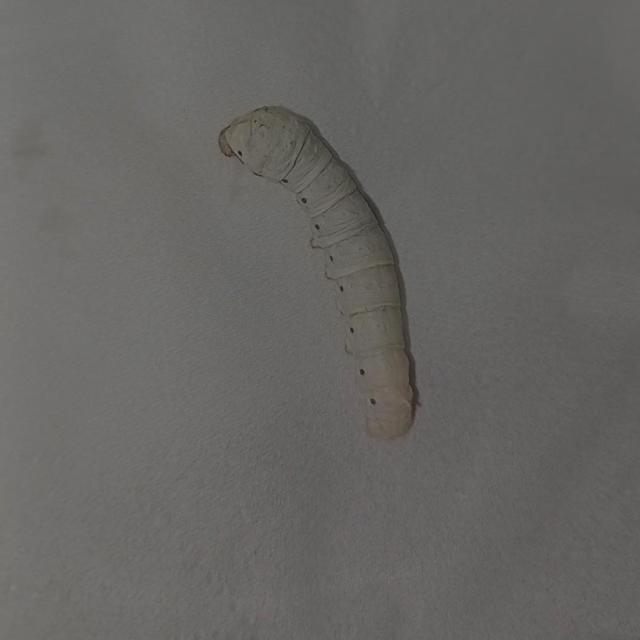Healthy: (196, 76, 472, 507)
